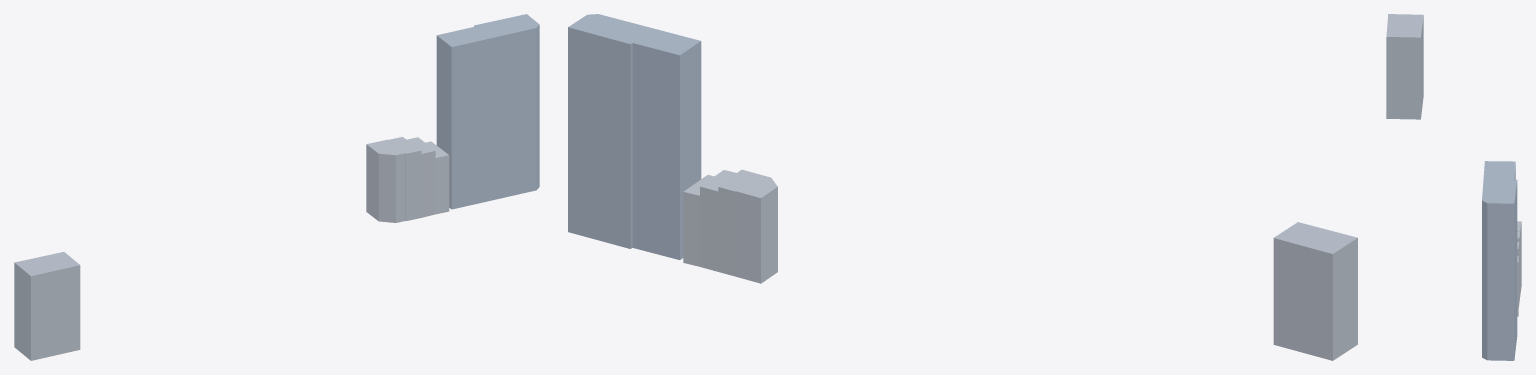
The picture shows the model from 3 angles, left to right: view 1: azimuth 30°, elevation 25°; view 2: azimuth 150°, elevation 25°; view 3: azimuth 270°, elevation 25°; orthographic projection. The views are drawn at different scales.
Size of the model in its own units: 159 by 44.1 by 34.33.
